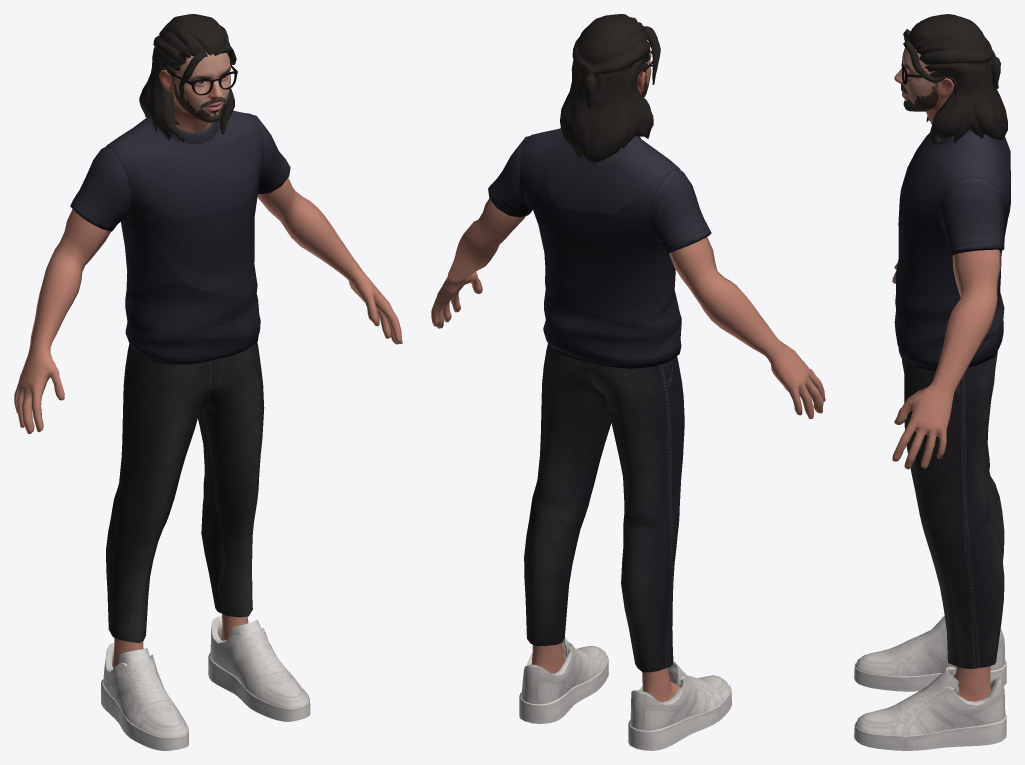
File: PortfolioAvatar.glb
The picture shows the model from 3 angles, left to right: view 1: azimuth 30°, elevation 25°; view 2: azimuth 150°, elevation 25°; view 3: azimuth 270°, elevation 25°; orthographic projection.
Visible parts, largest first — view 1: node_id93, node_id87, node_id84, node_id90, node_id96, node_id78; view 2: node_id87, node_id93, node_id84, node_id96, node_id90; view 3: node_id87, node_id93, node_id90, node_id84, node_id96, node_id78.
Part boxes in pixels (x1,y1,x2,y2): node_id93: (70, 110, 290, 364); node_id87: (106, 342, 264, 642); node_id84: (14, 178, 402, 668); node_id90: (101, 616, 310, 750); node_id96: (139, 14, 236, 142); node_id78: (159, 51, 230, 132); node_id87: (524, 343, 684, 672); node_id93: (488, 128, 711, 368); node_id84: (431, 198, 825, 701); node_id96: (560, 14, 660, 165); node_id90: (519, 637, 731, 750); node_id87: (902, 351, 1004, 668); node_id93: (894, 129, 1010, 370); node_id90: (854, 616, 1006, 750); node_id84: (892, 249, 1000, 701); node_id96: (903, 14, 1007, 143); node_id78: (894, 47, 954, 124).
Bounding box in the file's own units: 0.292 × 0.5085 × 0.1047.
Materials: 10 (10 with a texture image).
